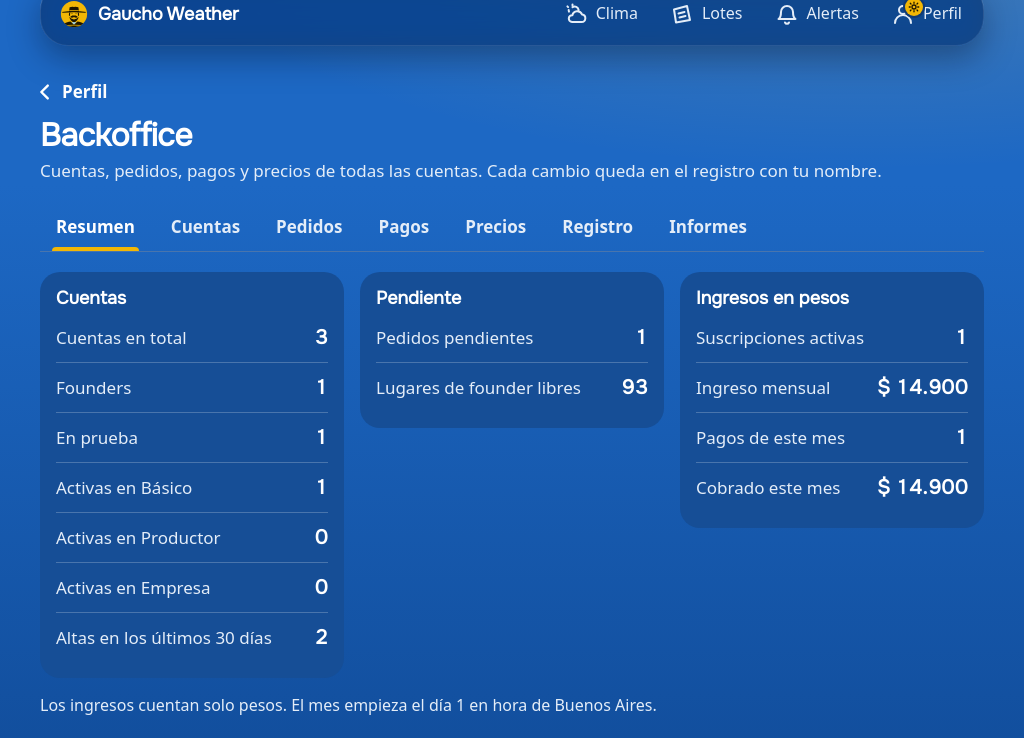
it: Scheduled price changes (avisos-cambios S4) › shows how many subscriptions were notified
Click the tab "Precios" at (496, 227), box x1=449 y1=203 x2=542 y2=251
(page scrolled)
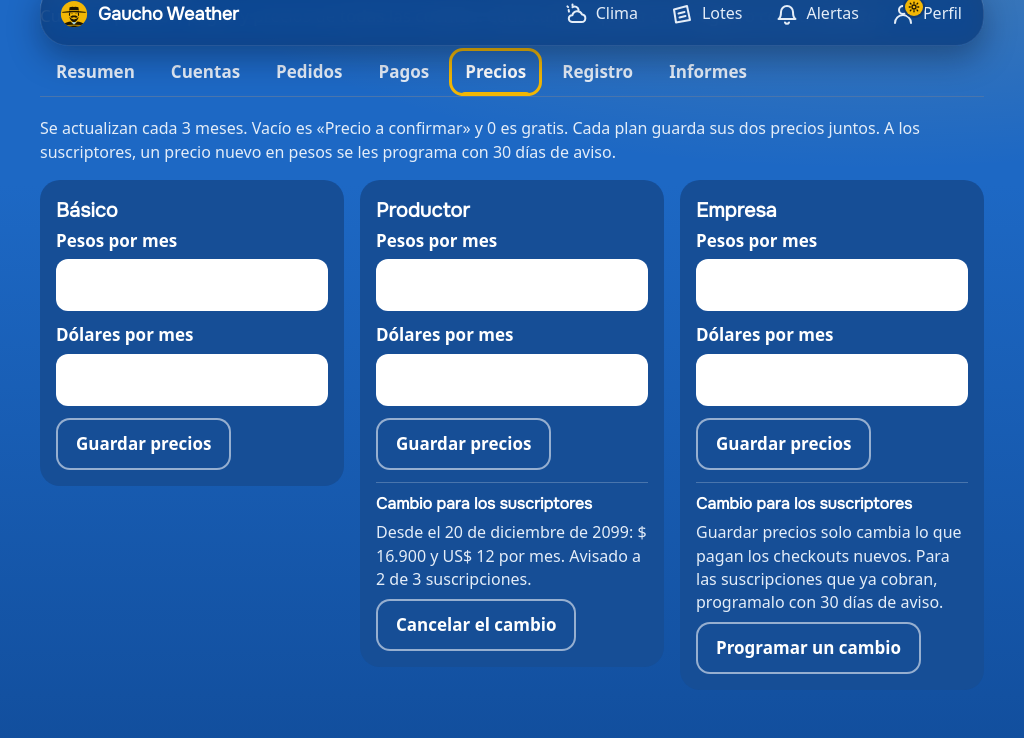
Expected: the element "Productor" shows "Avisado a 2 de 3 suscripciones.", x1=376 y1=196 x2=648 y2=651
